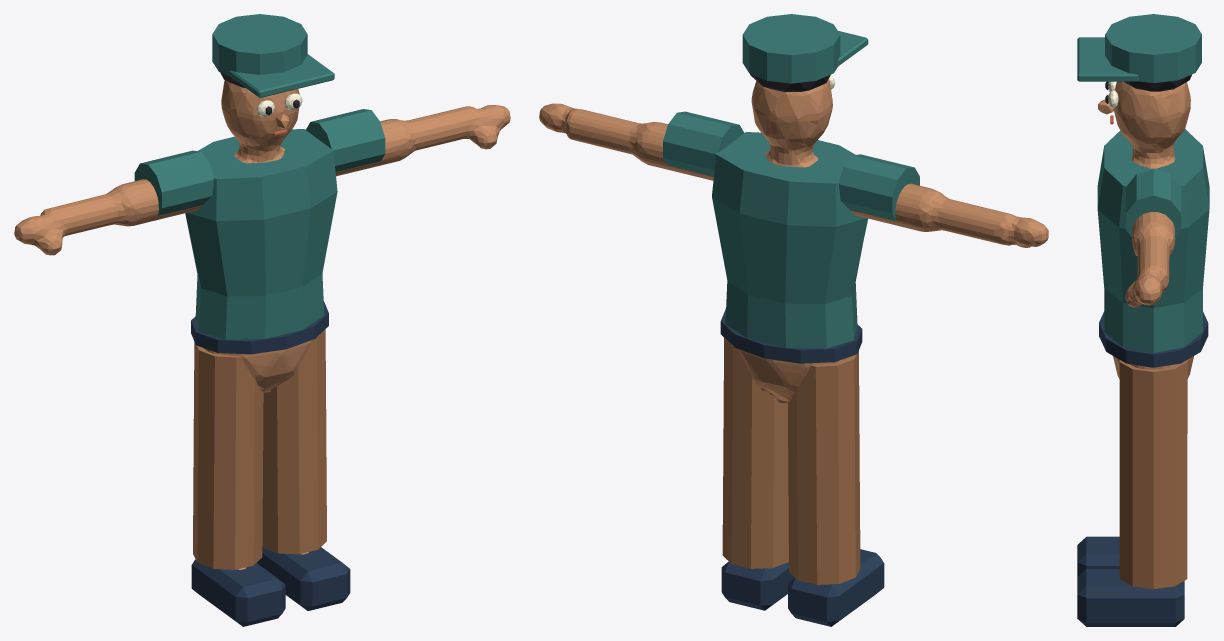
Rendered from Civilian_07.fbx.
3 renders of one model, left to right at view 1: azimuth 30°, elevation 25°; view 2: azimuth 150°, elevation 25°; view 3: azimuth 270°, elevation 25°, orthographic. The views are drawn at different scales.
Visible parts, largest first — view 1: Shirt.006, Civilian_07_Base_BaseFemale_TPose_Body, PantsLeg.012, PantsLeg.013, CapCrown.001, Shoe.012, Shoe.013, Sleeve.012, Sleeve.013, Belt.006, CapVisor.001; view 2: Shirt.006, Civilian_07_Base_BaseFemale_TPose_Body, PantsLeg.012, PantsLeg.013, CapCrown.001, Shoe.012, Sleeve.012, Sleeve.013, Shoe.013, Belt.006; view 3: PantsLeg.013, Shirt.006, Civilian_07_Base_BaseFemale_TPose_Body, CapCrown.001, Shoe.013, Sleeve.013, Belt.006, CapVisor.001, Shoe.012, HairCap.006.
Part boxes in pixels (<box>): Shirt.006: <box>185,129,337,339</box>; Civilian_07_Base_BaseFemale_TPose_Body: <box>14,80,510,569</box>; PantsLeg.012: <box>193,342,263,569</box>; PantsLeg.013: <box>262,329,326,554</box>; CapCrown.001: <box>212,14,307,75</box>; Shoe.012: <box>191,559,285,626</box>; Shoe.013: <box>257,547,350,610</box>; Sleeve.012: <box>134,150,213,215</box>; Sleeve.013: <box>306,109,385,171</box>; Belt.006: <box>191,301,328,354</box>; CapVisor.001: <box>229,54,334,97</box>; Shirt.006: <box>712,132,867,348</box>; Civilian_07_Base_BaseFemale_TPose_Body: <box>539,79,1048,403</box>; PantsLeg.012: <box>788,351,860,584</box>; PantsLeg.013: <box>722,338,788,568</box>; CapCrown.001: <box>742,14,840,83</box>; Shoe.012: <box>788,549,884,626</box>; Sleeve.012: <box>838,154,919,220</box>; Sleeve.013: <box>663,111,744,176</box>; Shoe.013: <box>721,561,794,610</box>; Belt.006: <box>720,309,862,363</box>; PantsLeg.013: <box>1119,360,1187,589</box>; Shirt.006: <box>1097,129,1209,352</box>; Civilian_07_Base_BaseFemale_TPose_Body: <box>1113,81,1193,378</box>; CapCrown.001: <box>1105,14,1201,82</box>; Shoe.013: <box>1077,569,1184,626</box>; Sleeve.013: <box>1126,169,1181,237</box>; Belt.006: <box>1099,311,1208,367</box>; CapVisor.001: <box>1077,37,1138,81</box>; Shoe.012: <box>1077,536,1119,576</box>; HairCap.006: <box>1124,74,1191,91</box>.
Bounding box in the file's own units: 1.61 × 1.75 × 0.3664.
